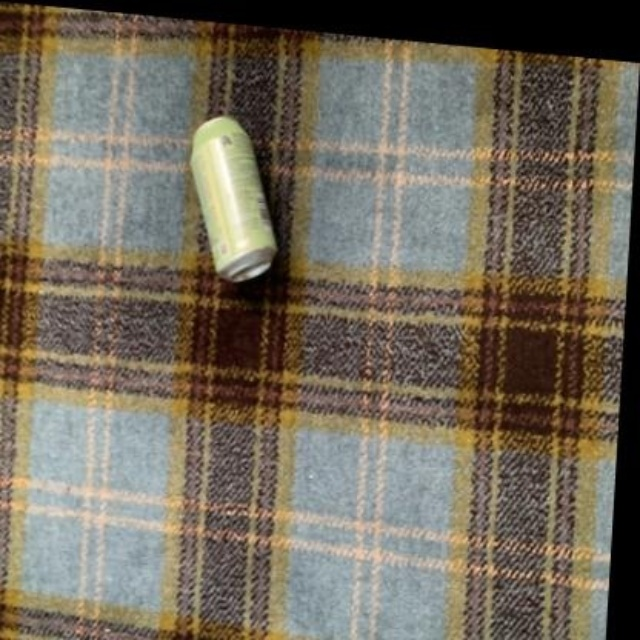trash: (191, 117, 275, 282)
